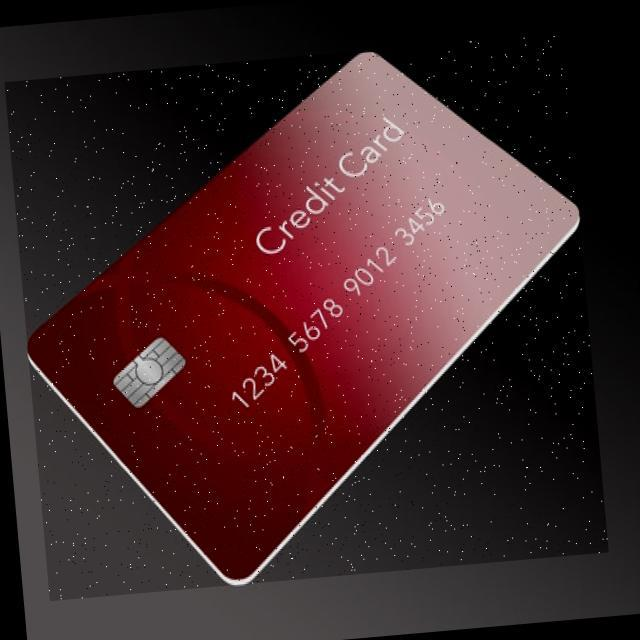payment_card: (23, 49, 583, 587)
